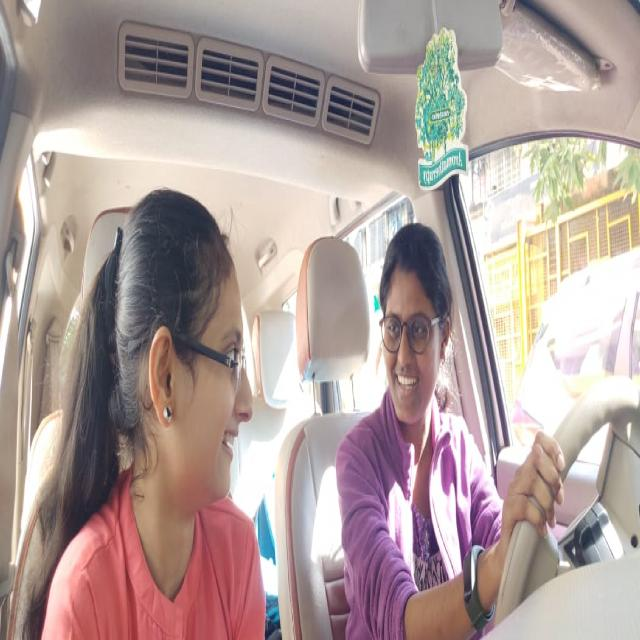LeftRight: (376, 220, 455, 434)
person: (110, 175, 252, 509)
talking: (392, 364, 420, 396), (219, 424, 240, 458)
